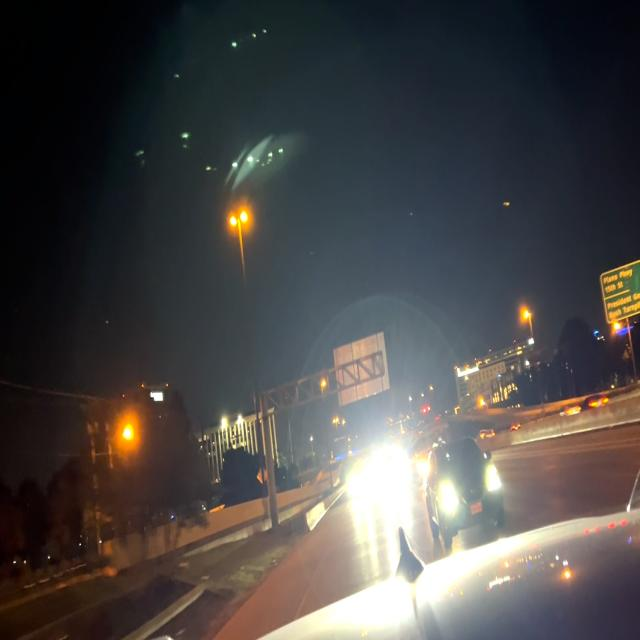back-of-sign: (334, 331, 390, 409)
